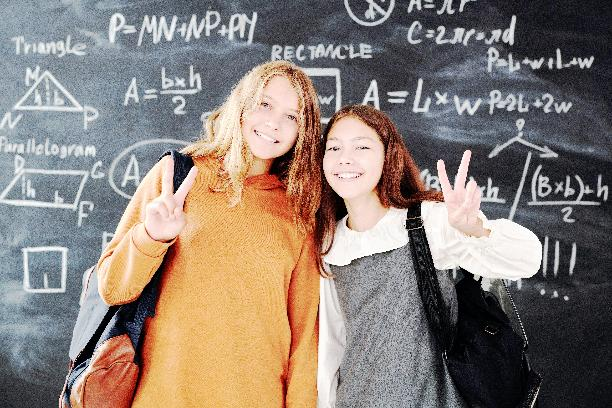Scissors: (143, 155, 201, 243), (435, 146, 483, 231)
